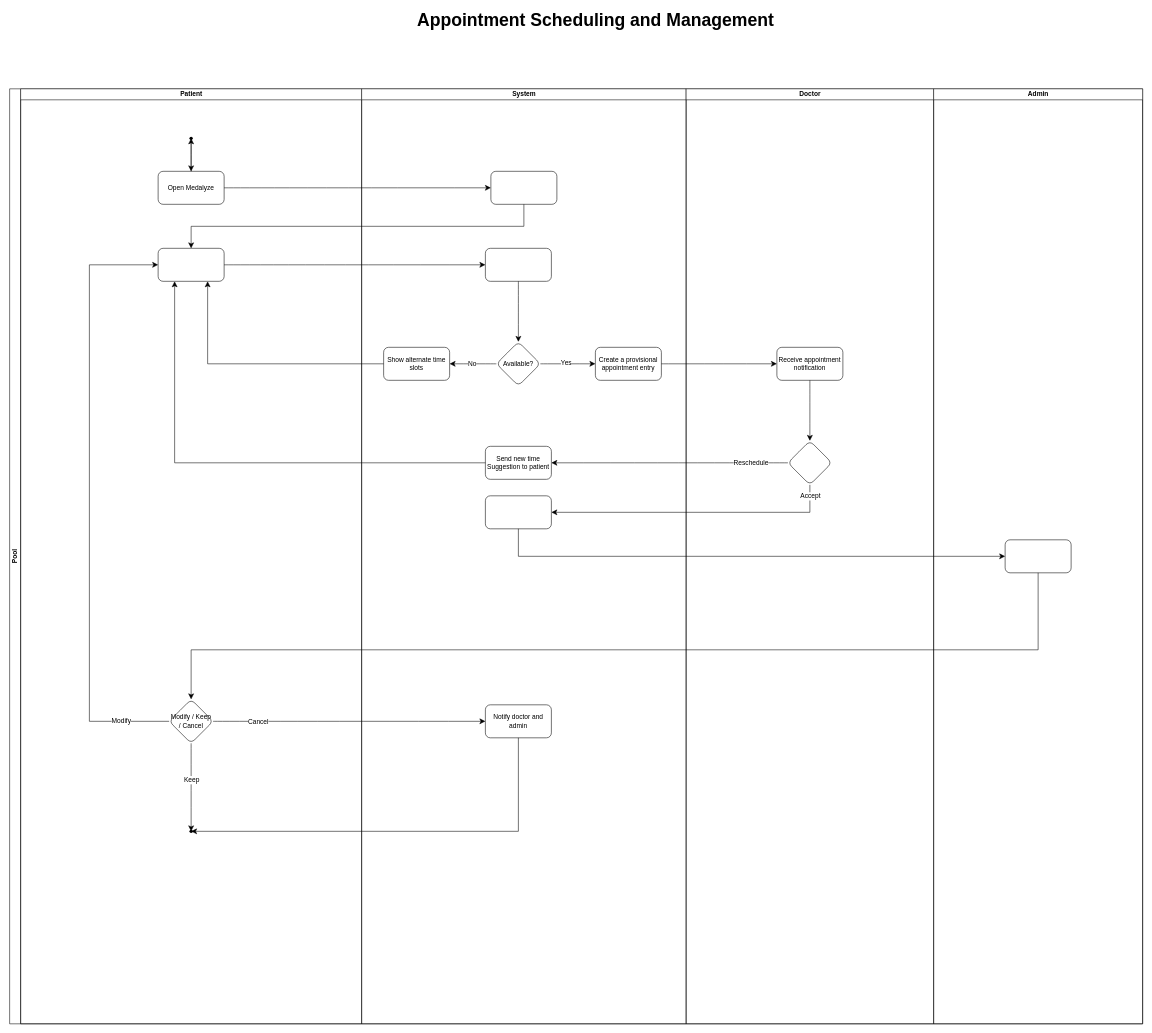
The diagram is 1152 pixels wide and 1033 high, and some of its shapes have lost their labels. Each missing label, with the box of its shape:
Accept or Reschedule?: (787, 440, 832, 485)
Check doctor's availability: (485, 248, 551, 281)
Display available doctors and time slots: (490, 171, 557, 204)
Select doctor and preferred date/time: (158, 248, 224, 281)
Send confirmation notification to patient: (485, 495, 551, 529)
Verify and log the confirmed appointment: (1005, 539, 1071, 573)
